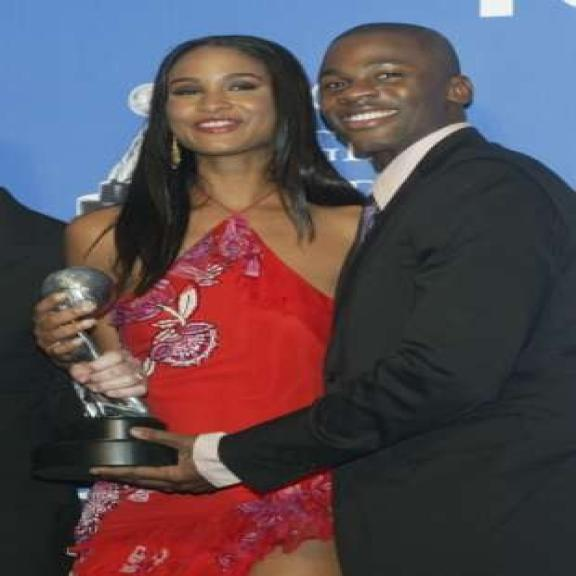face: (320, 34, 480, 157), (165, 50, 286, 160)
